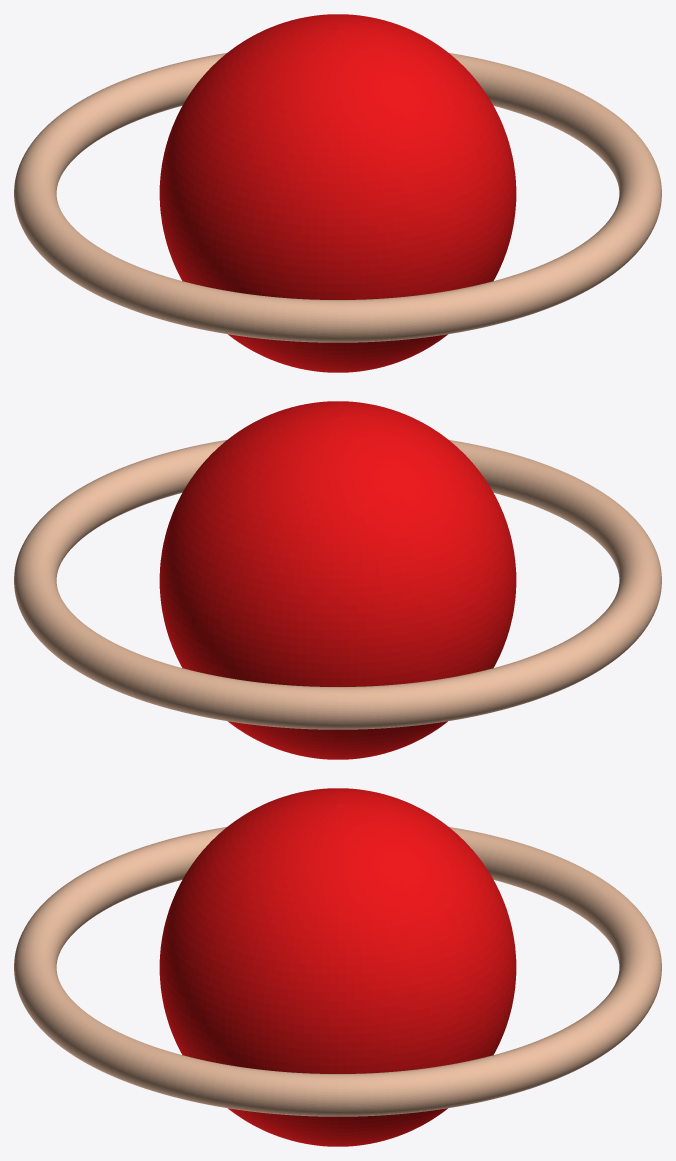
Rendered from hydrogen.gltf.
The picture shows the model from 3 angles, top to bottom: view 1: azimuth 30°, elevation 25°; view 2: azimuth 150°, elevation 25°; view 3: azimuth 270°, elevation 25°; orthographic projection.
Parts seen in each view (by area): view 1: Sphere, Torus; view 2: Sphere, Torus; view 3: Sphere, Torus.
Boxes of the visible parts, x1,y1,x2,y2 form: Sphere: (159, 14, 516, 372); Torus: (14, 53, 661, 342); Sphere: (159, 401, 516, 759); Torus: (14, 440, 661, 729); Sphere: (159, 788, 516, 1146); Torus: (14, 827, 661, 1116).
Bounding box in the file's own units: 0.8965 × 0.4988 × 0.8965.
